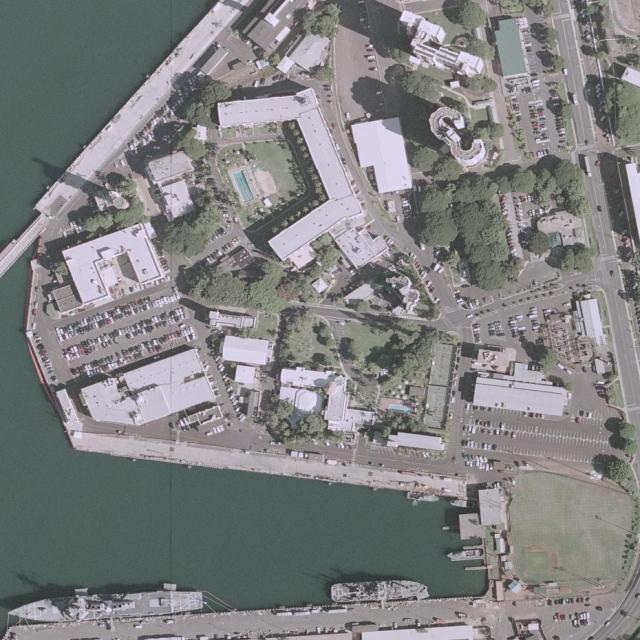Destroyer: (8, 586, 203, 625)
Other Ship: (406, 491, 439, 503), (449, 499, 476, 509), (447, 550, 480, 558)
Other Warship: (330, 577, 427, 603)
